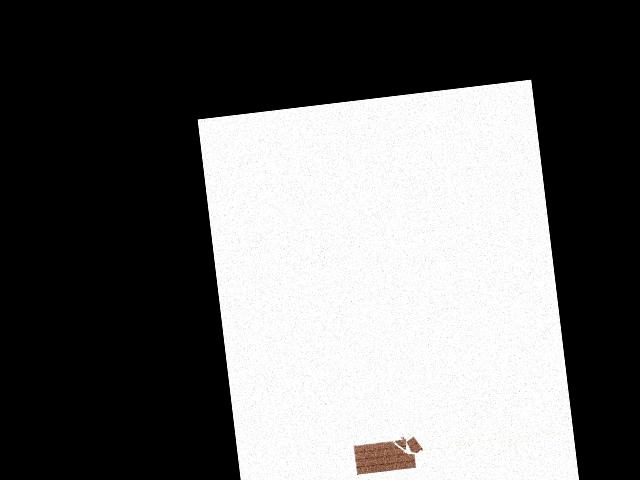chocolate: (351, 428, 425, 479)
